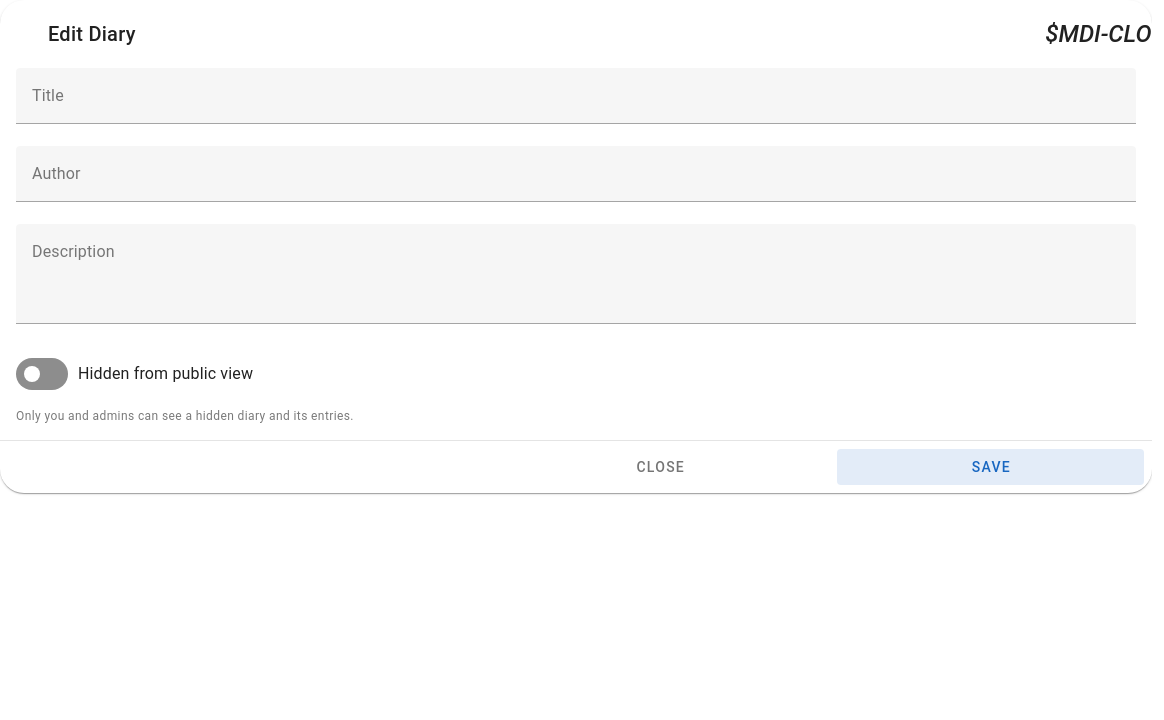
Test case: DiaryEditor › ValidationFailureTitleTooShort
Check: the message with id "title-messages" is empty, box [16,124,1136,146]
Note: Change Bad values
Step 1. Type "1234" into the field with id "title" → [576, 96], box [16,68,1136,124]
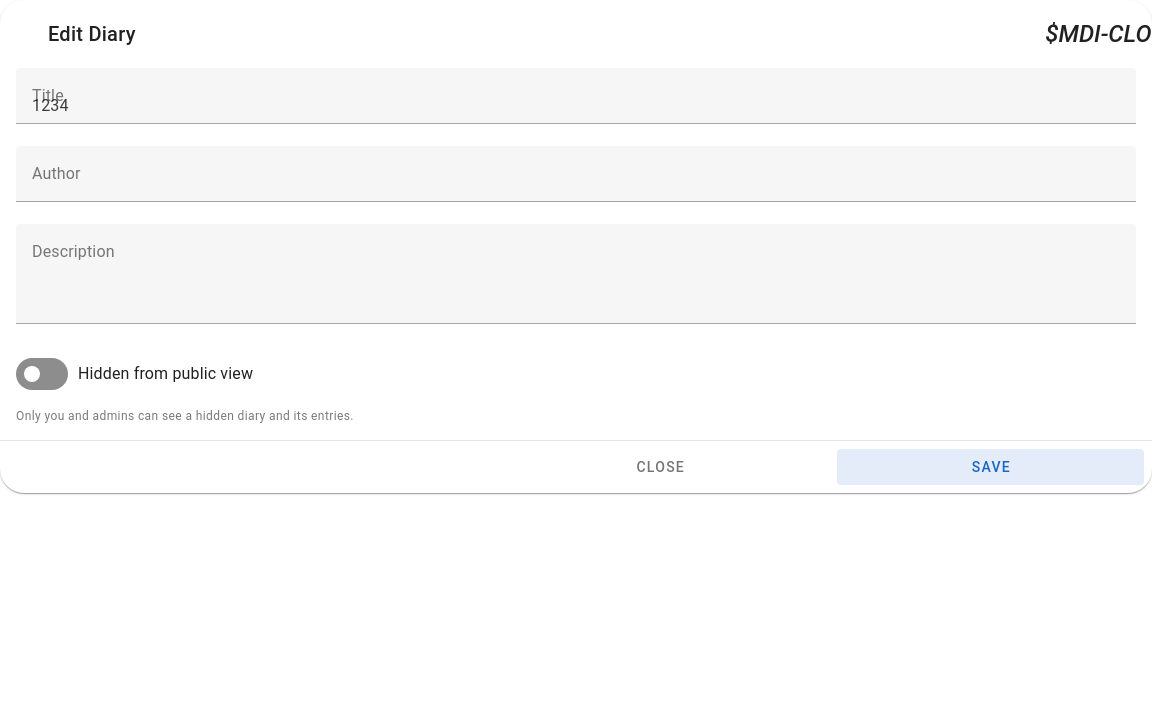
Step 2. Submit the form from the button with id "save", box [837,449,1144,485]
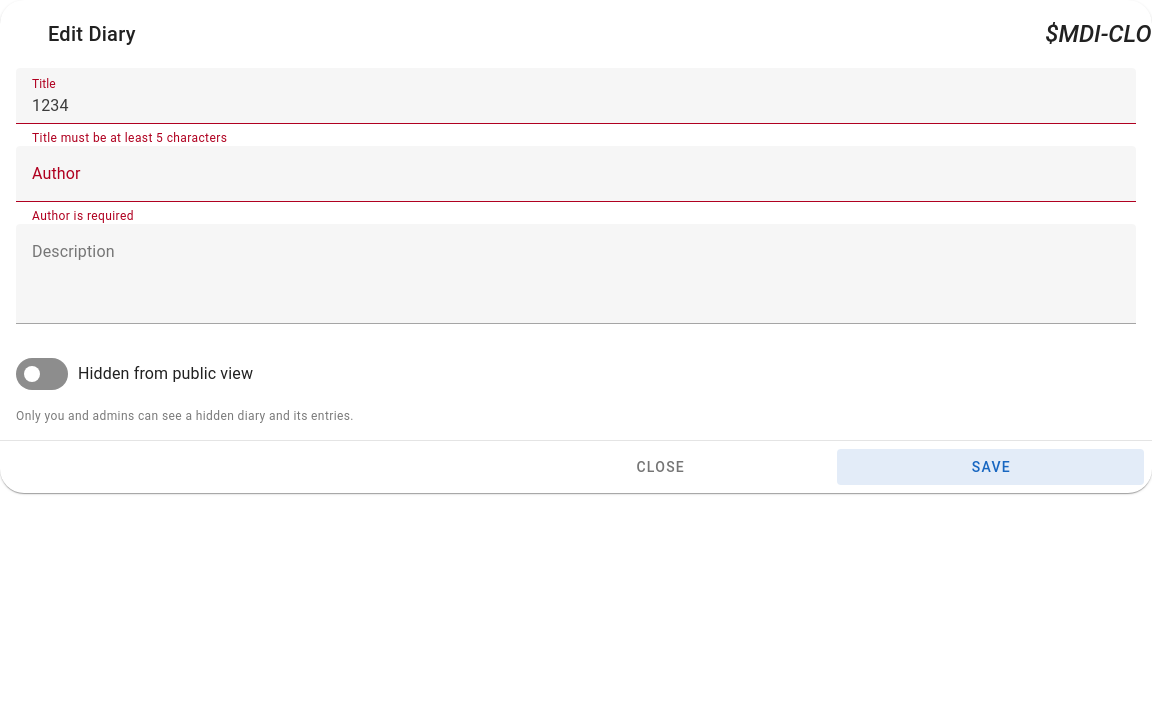
Check: the message with id "title-messages" reads "Title must be at least 5 characters", box [32,131,227,145]
